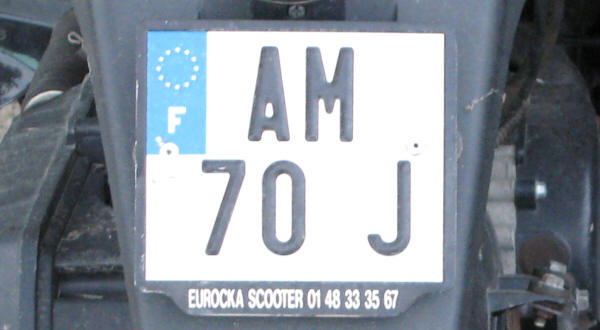license_plate: (136, 22, 455, 290)
